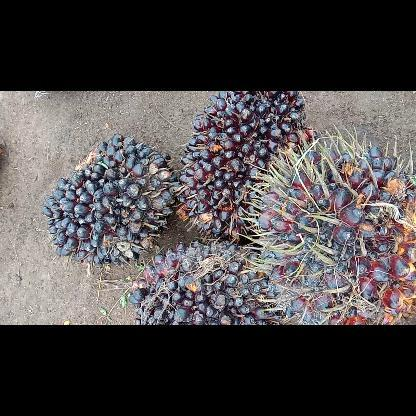TBS mentah: (247, 136, 414, 324), (176, 91, 320, 243), (38, 132, 180, 270), (127, 234, 289, 324)
